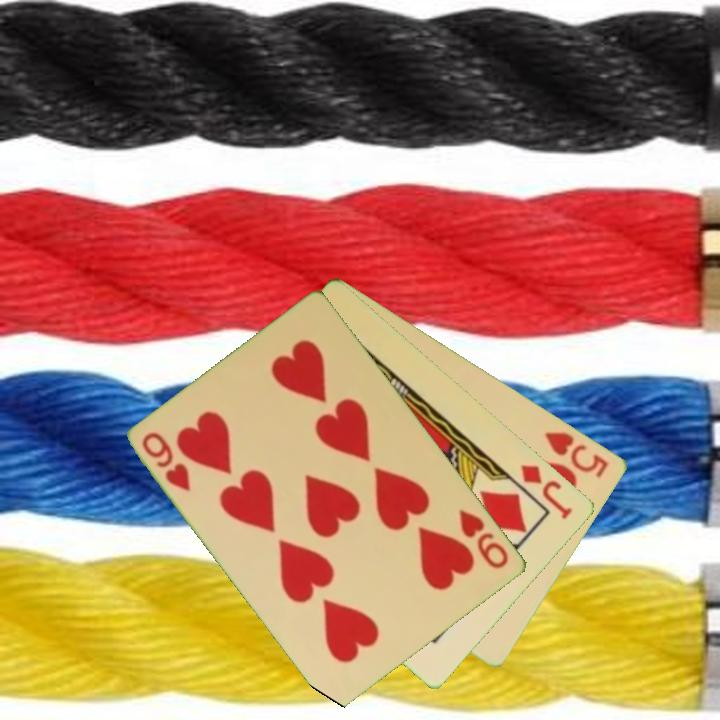5h: (542, 428, 612, 480)
9h: (138, 428, 195, 495), (456, 505, 512, 572)
Jd: (517, 460, 576, 523)
